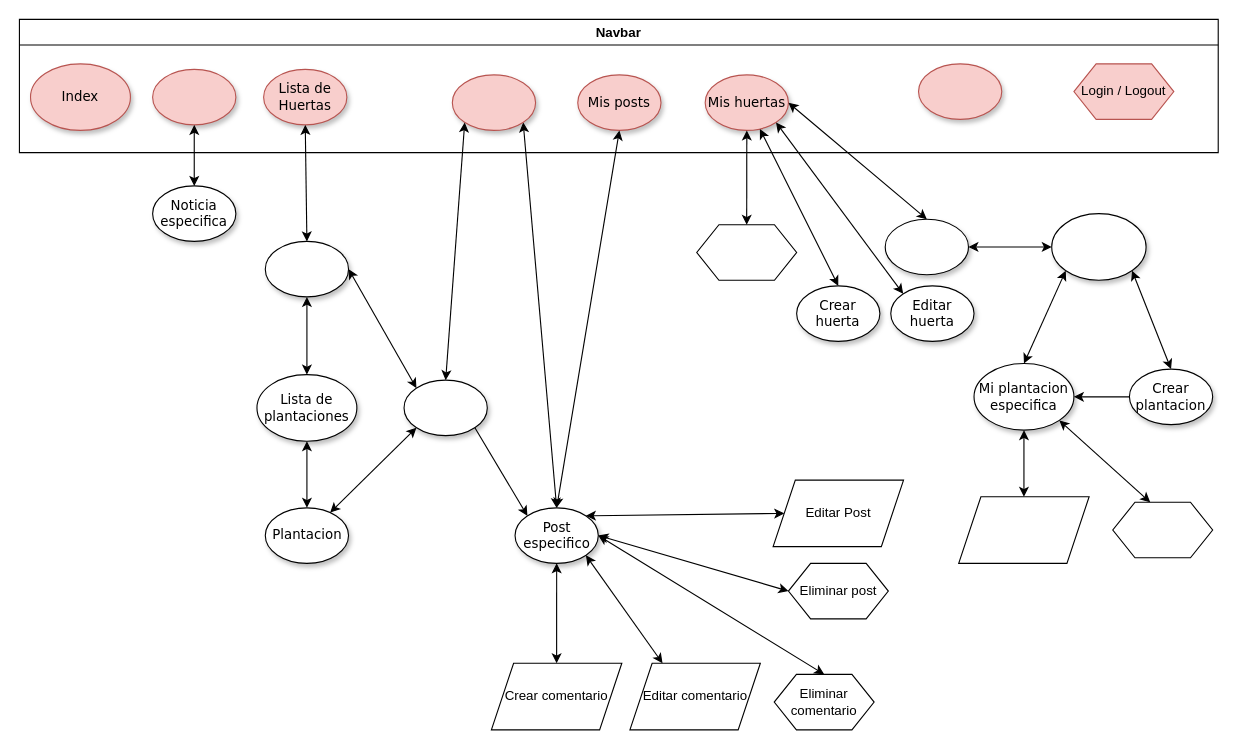
Some shapes in this 1239 by 749 pixel diagram are drawn without their labels. The shapes that lost their labels are listed below. From the top down, each one's centre as x and y in pixels, then its label:
[195,98]: Lista de noticias
[494,103]: Lista de posts
[960,92]: Perfil
[746,252]: Eliminar huerta
[927,248]: Mi huerta especifica
[1099,248]: Lista de mis plantaciones
[307,270]: Huerta especifica
[446,409]: Crear post
[1023,529]: Editar plantacion
[1162,529]: Eliminar plantacion
